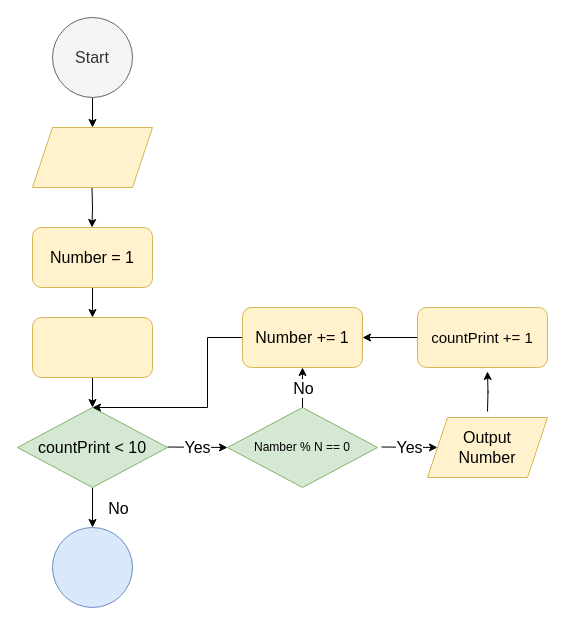
This 565x625 diagram has some shape labels left out. Each missing label, with the centre of its shape:
countPrint = 0: point 92,347
END: point 92,567
Input N: point 92,157
